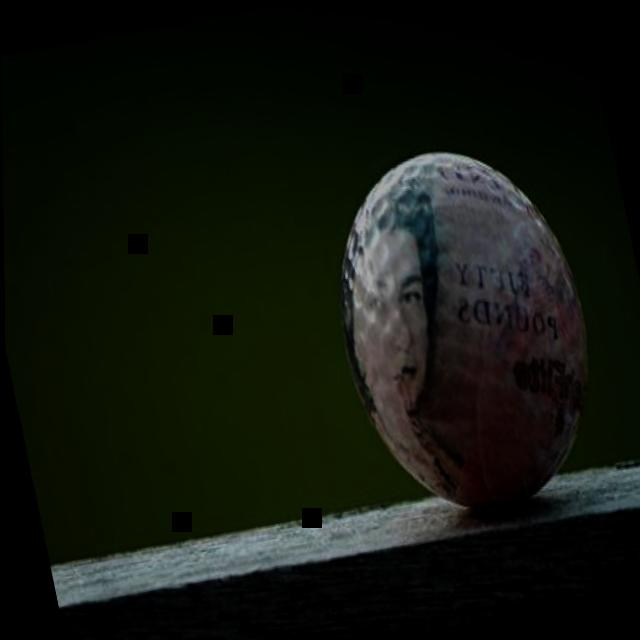golf ball: (300, 112, 627, 541)
